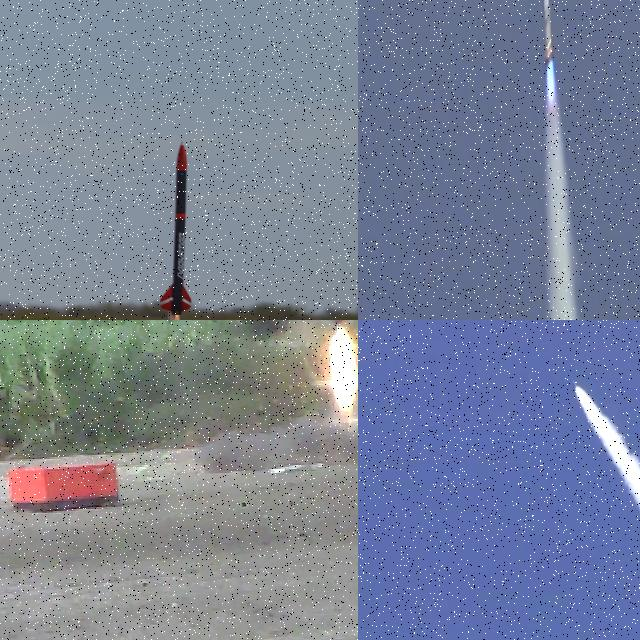Rocket: (160, 140, 193, 317), (543, 0, 555, 64), (572, 379, 579, 389)
